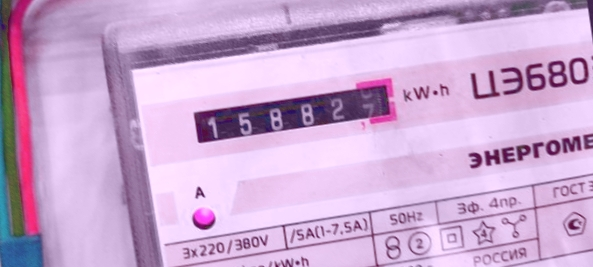1: (205, 113, 220, 140)
2: (327, 95, 347, 122)
5: (235, 109, 253, 137)
7: (359, 99, 377, 118)
8: (266, 104, 286, 131), (298, 100, 316, 127)
screen: (182, 71, 406, 158)
